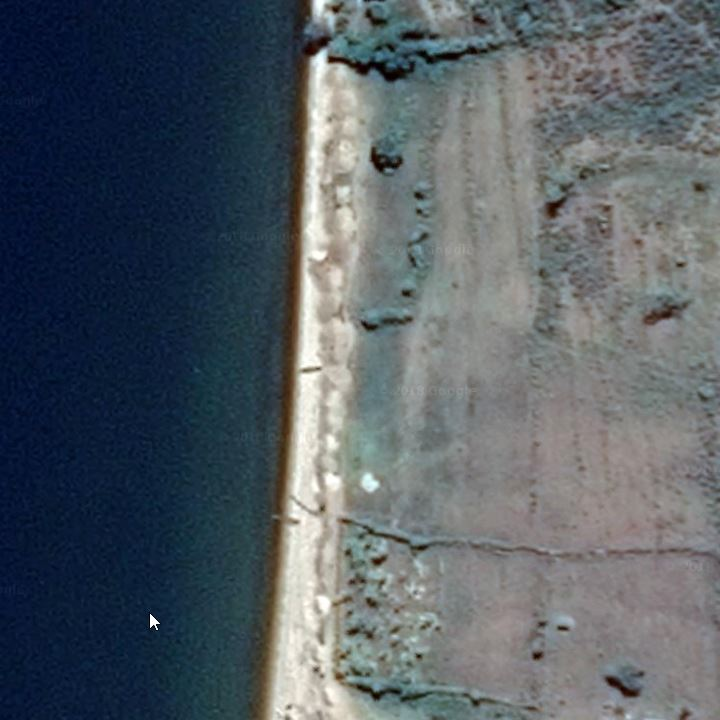boat: (264, 510, 305, 532), (292, 362, 327, 380)
